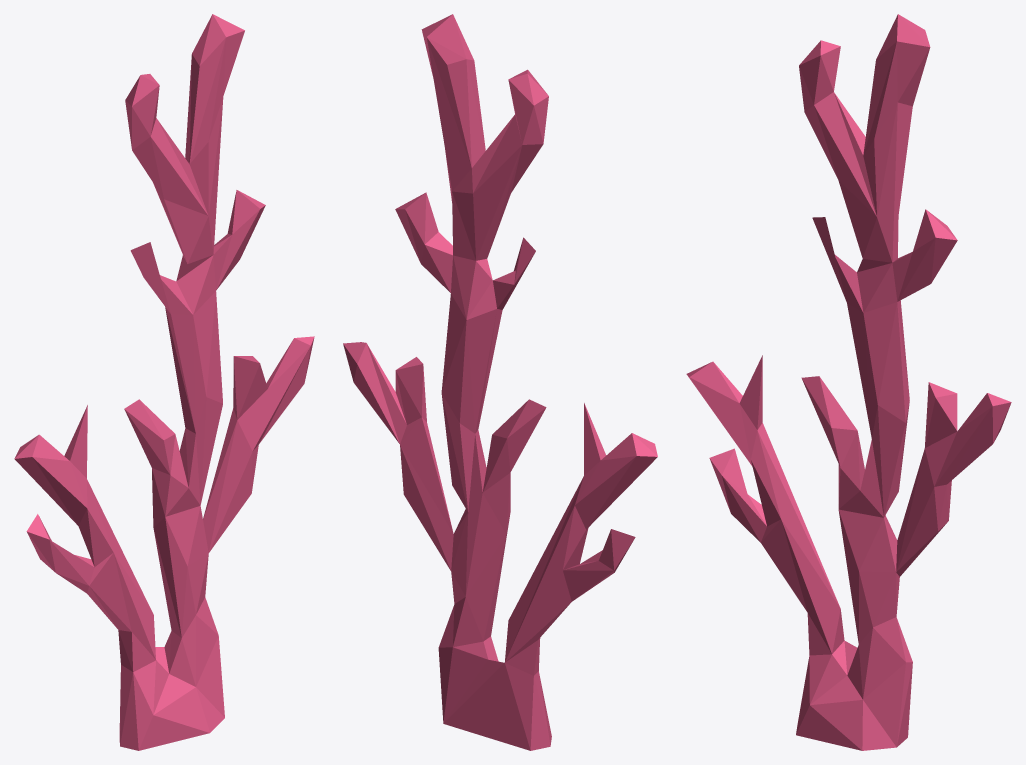
File: Coral_009.glb
3 views of the same model, side by side, from view 1: azimuth 30°, elevation 25°; view 2: azimuth 150°, elevation 25°; view 3: azimuth 330°, elevation 25° (orthographic). The views are drawn at different scales.
Visible parts, largest first — view 1: Coral_009; view 2: Coral_009; view 3: Coral_009.
Part boxes in pixels (x1,y1,x2,y2): Coral_009: (14, 14, 314, 750); Coral_009: (343, 14, 657, 750); Coral_009: (686, 14, 1011, 750).
Size of the model in its own units: 0.4244 by 0.9353 by 0.0642.
Materials: 1 (1 with a texture image).
